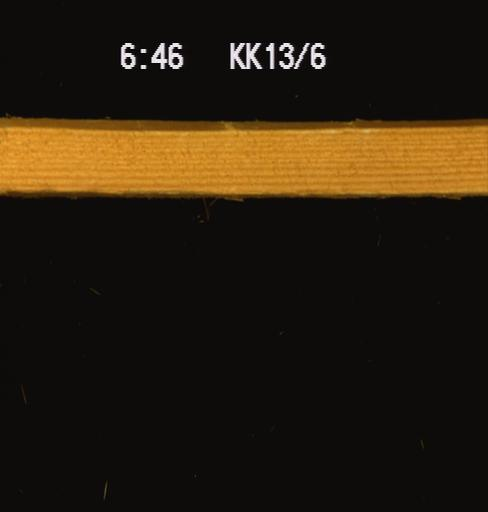wave: (0, 174, 487, 205)
